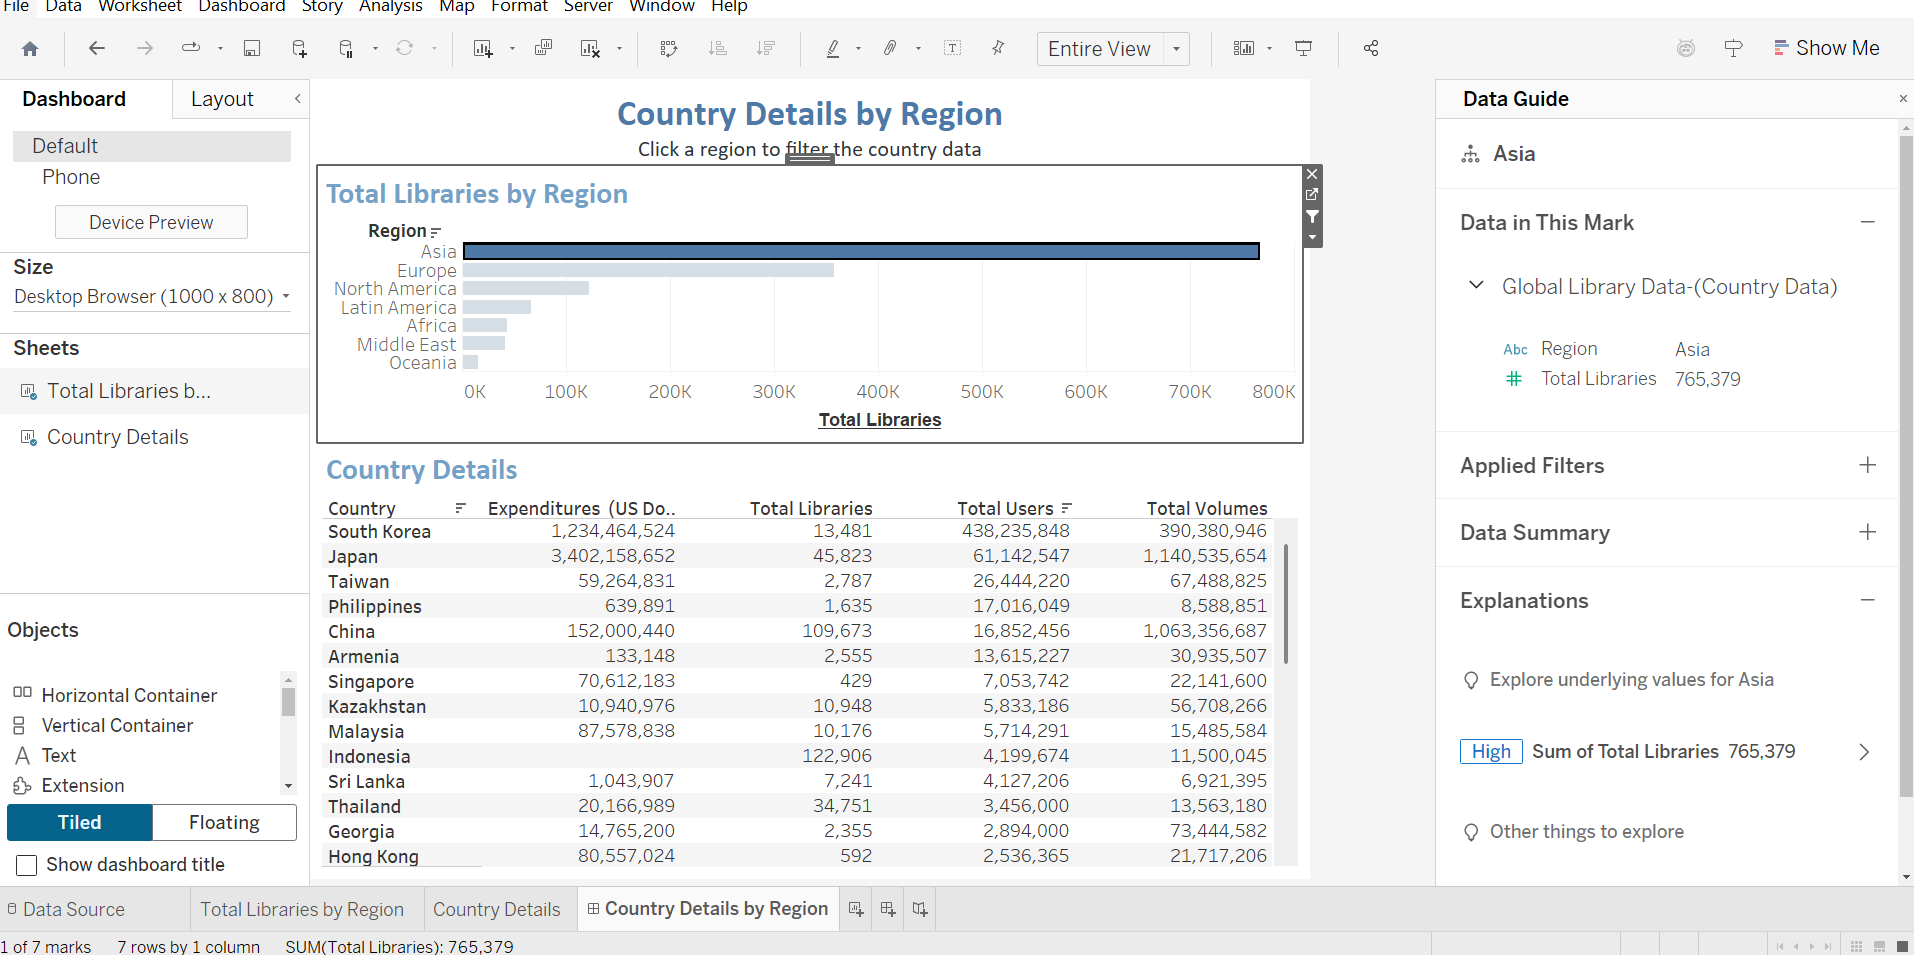

The page's visual inventory and layout, read from the dashboard file:
{"tool":"tableau","page":{"name":"Country Details by Region","canvas":[1000,800],"ordinal":0},"visuals":[{"type":"title","box":[8,8,984,79]},{"type":"worksheet","title":"Total Libraries by Region","mark":"Automatic","rows":["Region"],"cols":["Total Libraries"],"box":[8,87,984,276]},{"type":"worksheet","title":"Country Details","mark":"Automatic","rows":["Country"],"box":[8,363,984,429]}]}

Visuals, with their boxes on the page's 1000x800 design canvas (x1, y1, x2, y2). These are canvas units, not pixel positions in the 1914x955 screenshot, which may show the page scaled, cropped or inside an application window:
title: (8, 8, 992, 87)
"Total Libraries by Region" worksheet: (8, 87, 992, 363)
"Country Details" worksheet: (8, 363, 992, 792)
